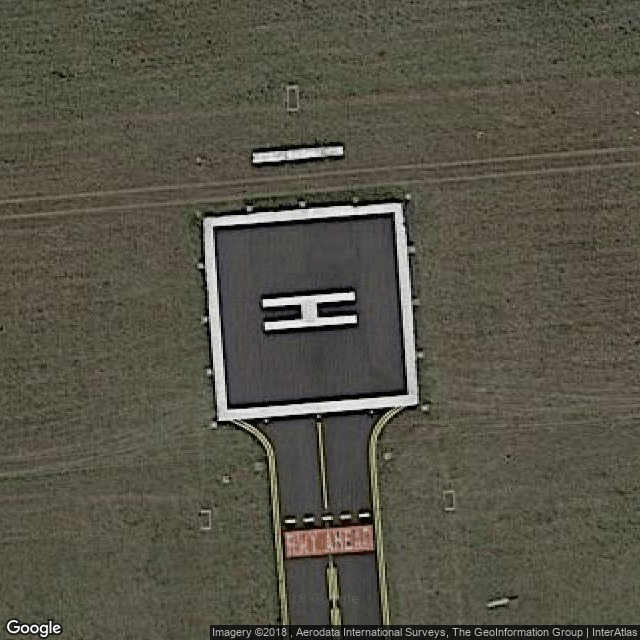heliport: (252, 277, 365, 337)
